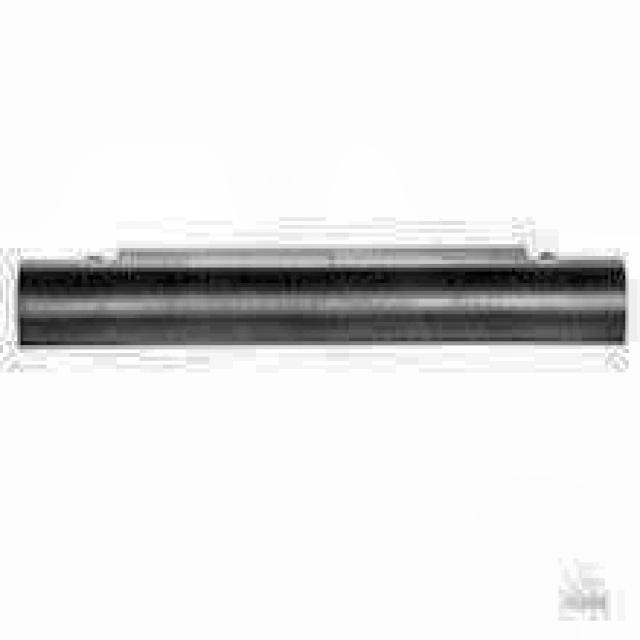Battery: (21, 248, 628, 342)
